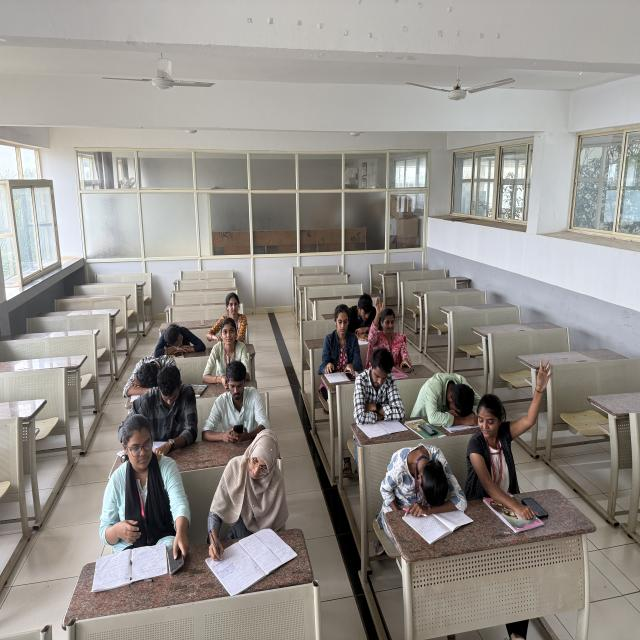Hand Rising: (472, 362, 559, 495), (370, 291, 414, 369)
Reading: (124, 378, 197, 455), (355, 355, 405, 444), (344, 294, 382, 344), (324, 310, 348, 382)
Sleeping: (385, 448, 463, 516), (417, 369, 480, 423), (149, 315, 216, 362), (118, 355, 186, 397)
Using Phone: (198, 372, 288, 442)
Writing: (199, 442, 300, 576)
